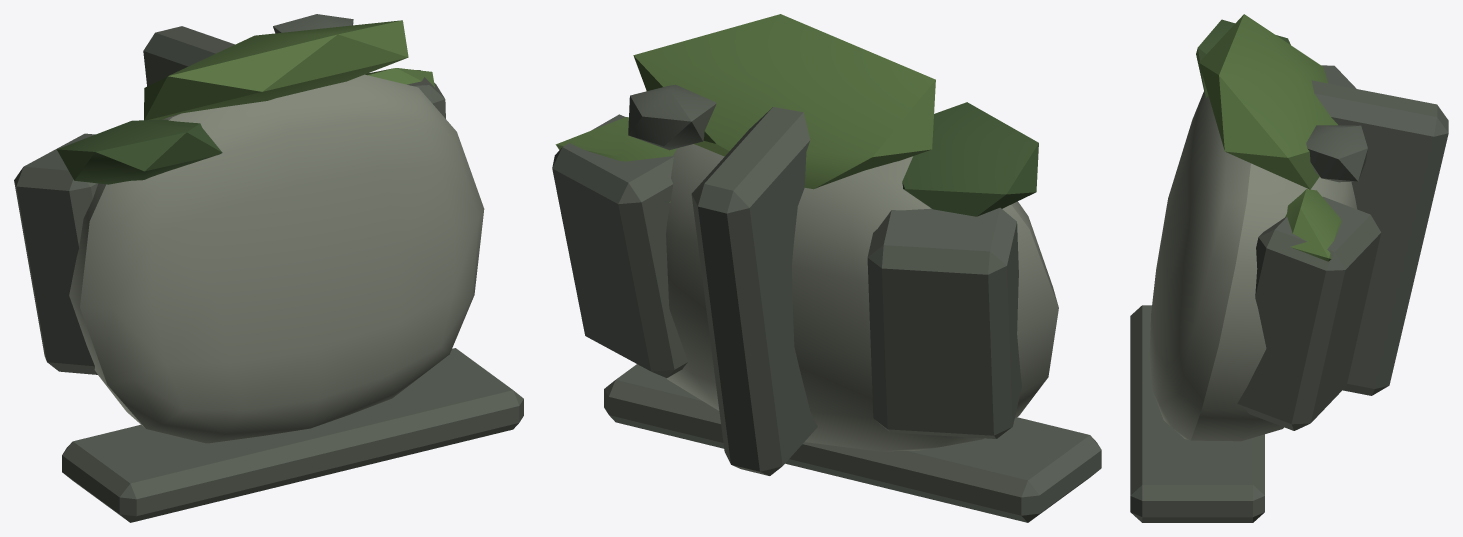
Rendered from sentinela_back.fbx.
The picture shows the model from 3 angles, left to right: view 1: azimuth 30°, elevation 25°; view 2: azimuth 150°, elevation 25°; view 3: azimuth 270°, elevation 25°; orthographic projection. The views are drawn at different scales.
Visible parts, largest first — view 1: sentinela_back; view 2: sentinela_back; view 3: sentinela_back.
Boxes of the visible parts, box(x1,y1,x2,y2) form: sentinela_back: box(14, 14, 523, 522); sentinela_back: box(552, 14, 1101, 522); sentinela_back: box(1130, 14, 1448, 522).
Size of the model in its own units: 1.56 by 1.41 by 1.06.
